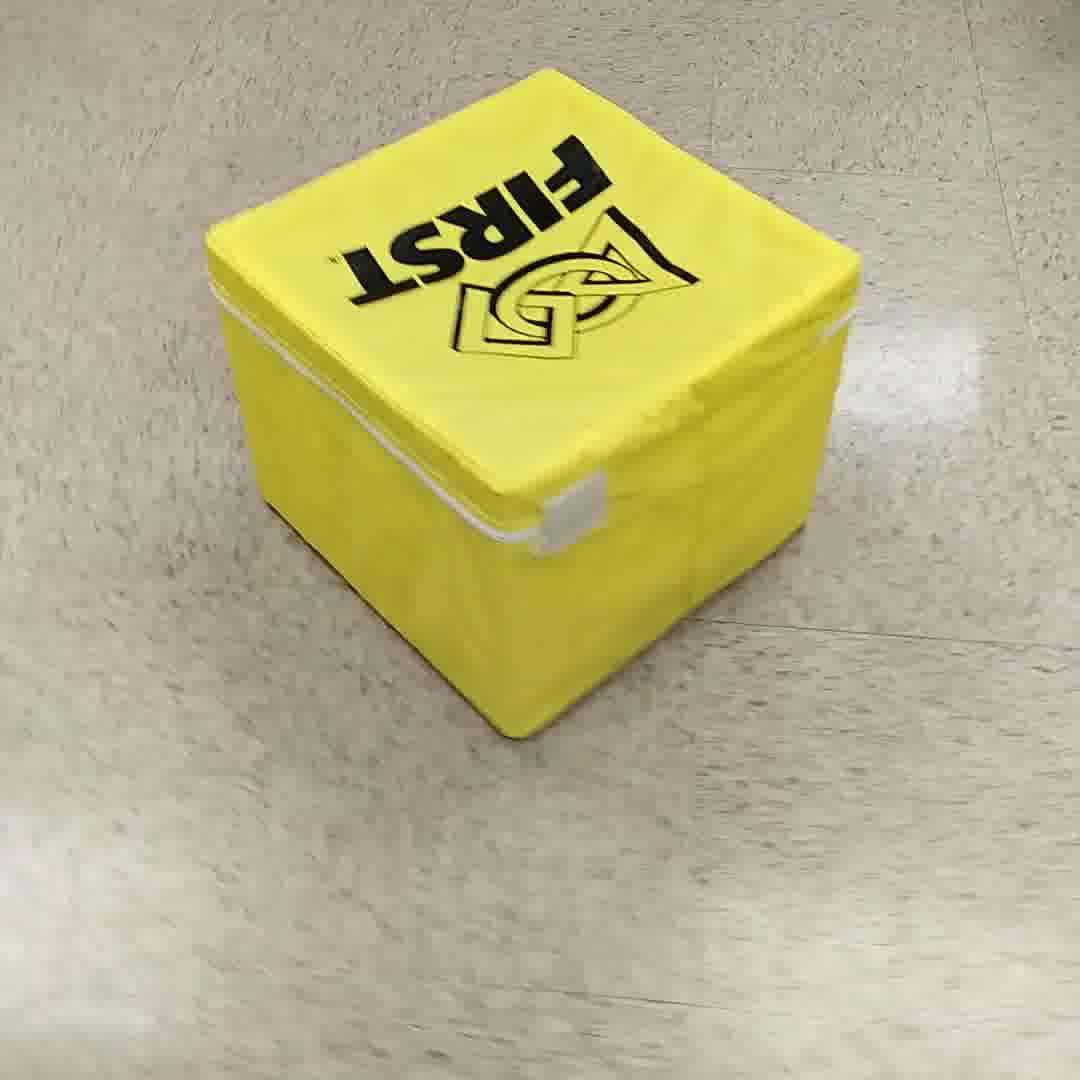box: (200, 71, 860, 745)
